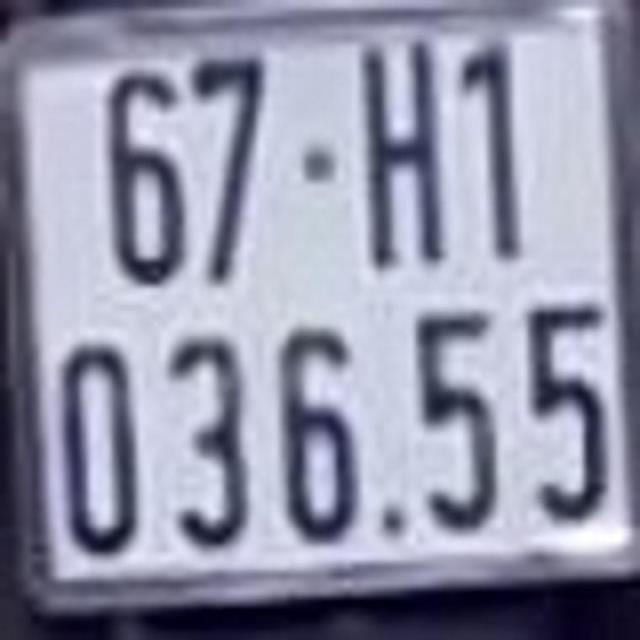0: (55, 327, 145, 560)
1: (458, 44, 532, 260)
3: (162, 326, 250, 550)
5: (412, 305, 512, 537), (526, 298, 620, 524)
6: (276, 314, 366, 549), (100, 66, 186, 285)
7: (191, 52, 273, 279)
H: (356, 40, 456, 265)
